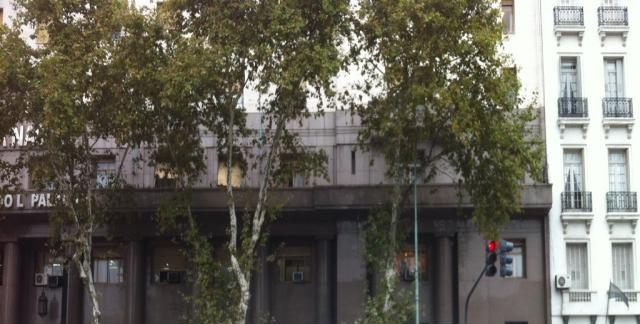red_light: (485, 239, 497, 276)
